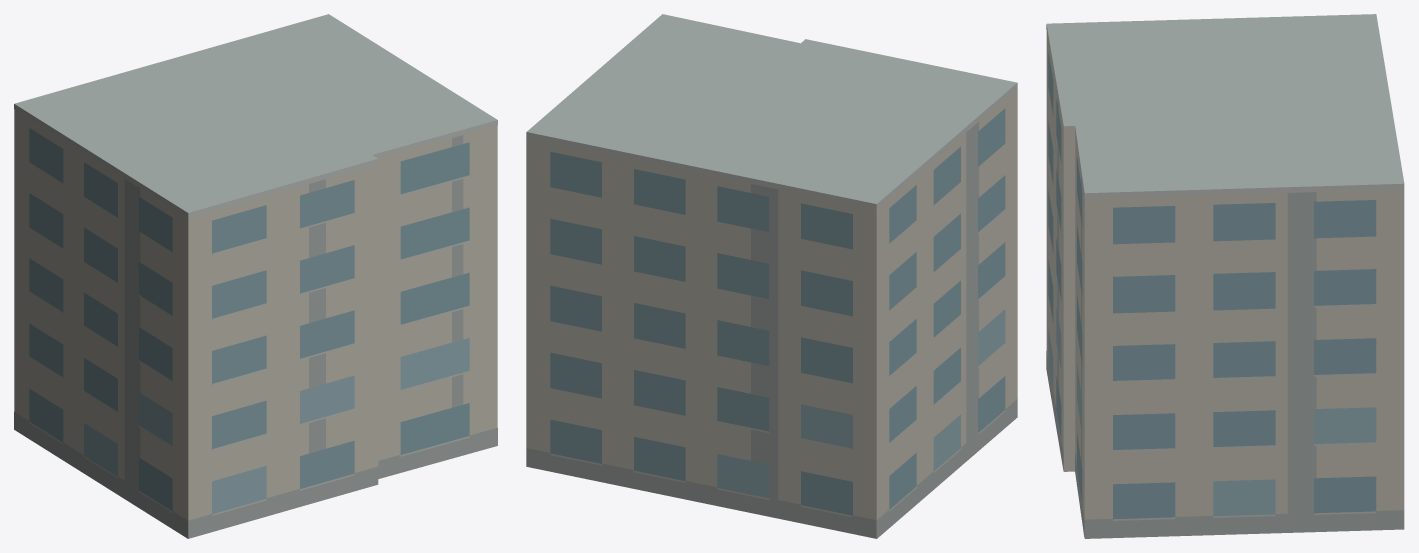
Rendered from survey-upis-32913748.glb.
3 renders of one model, left to right at view 1: azimuth 30°, elevation 25°; view 2: azimuth 150°, elevation 25°; view 3: azimuth 270°, elevation 25°, orthographic. The views are drawn at different scales.
Visible parts, largest first — view 1: survey-upis-32913748.tmp; view 2: survey-upis-32913748.tmp; view 3: survey-upis-32913748.tmp.
Part boxes in pixels (x1,y1,x2,y2): survey-upis-32913748.tmp: (14,14,497,538); survey-upis-32913748.tmp: (526,14,1017,538); survey-upis-32913748.tmp: (1046,14,1404,538).
Bounding box in the file's own units: 16.24 × 14.6 × 13.71.
